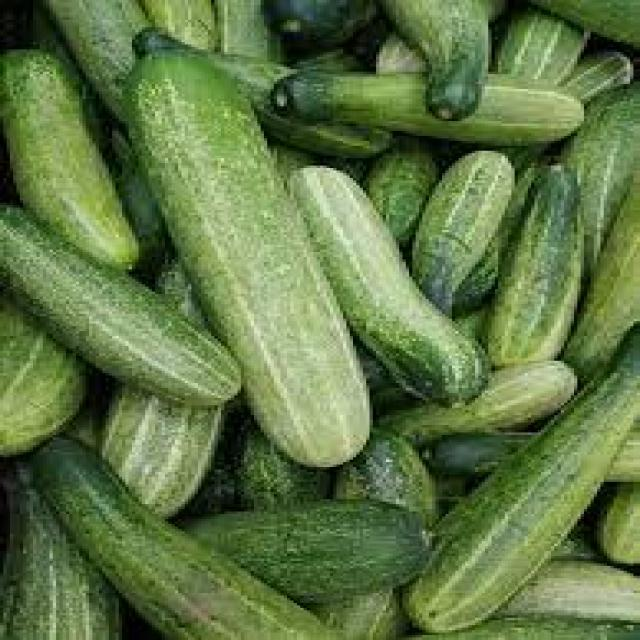Pickle: (128, 40, 370, 467), (404, 330, 639, 632), (37, 437, 339, 639), (3, 206, 240, 406), (290, 166, 486, 402), (2, 51, 139, 269), (189, 500, 429, 602), (274, 73, 584, 144), (2, 463, 120, 639), (484, 165, 584, 366), (404, 560, 639, 639), (412, 151, 514, 314), (562, 173, 639, 381), (102, 386, 222, 517), (380, 361, 576, 437), (561, 83, 639, 269), (0, 295, 87, 456), (383, 0, 492, 119), (46, 0, 152, 119)
